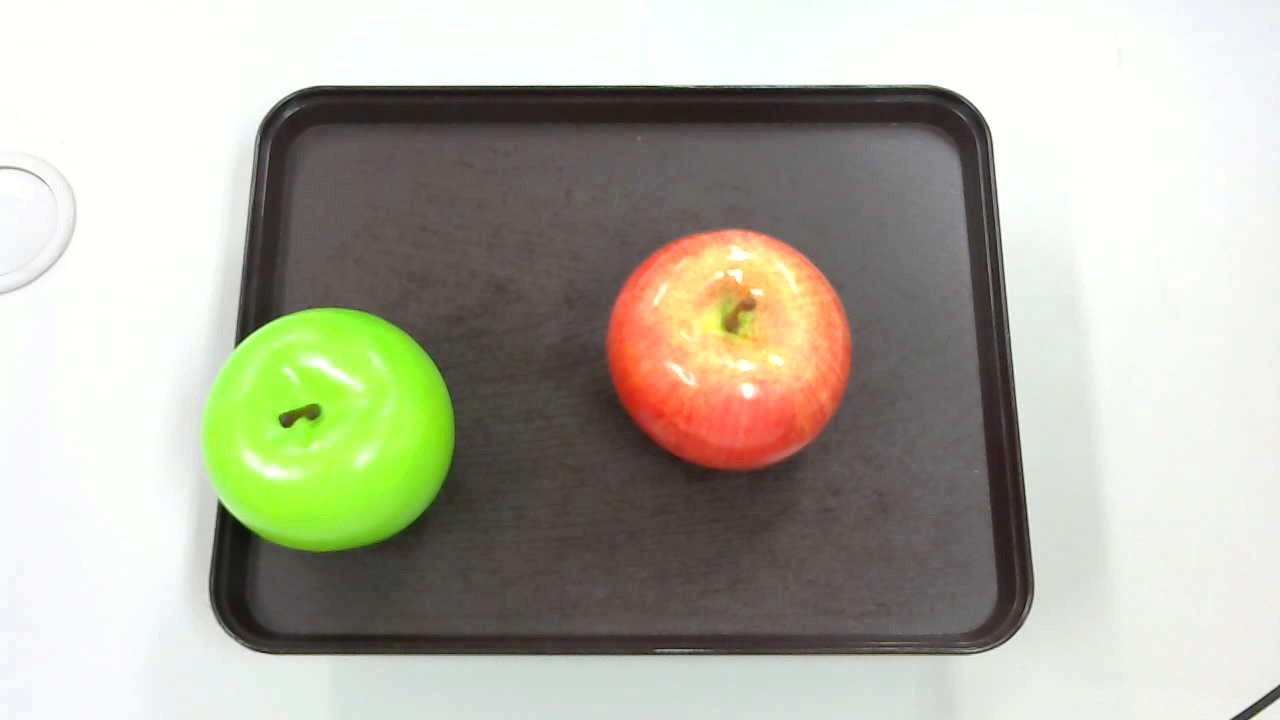green apple: (196, 307, 454, 558)
red apple: (607, 230, 858, 476)
